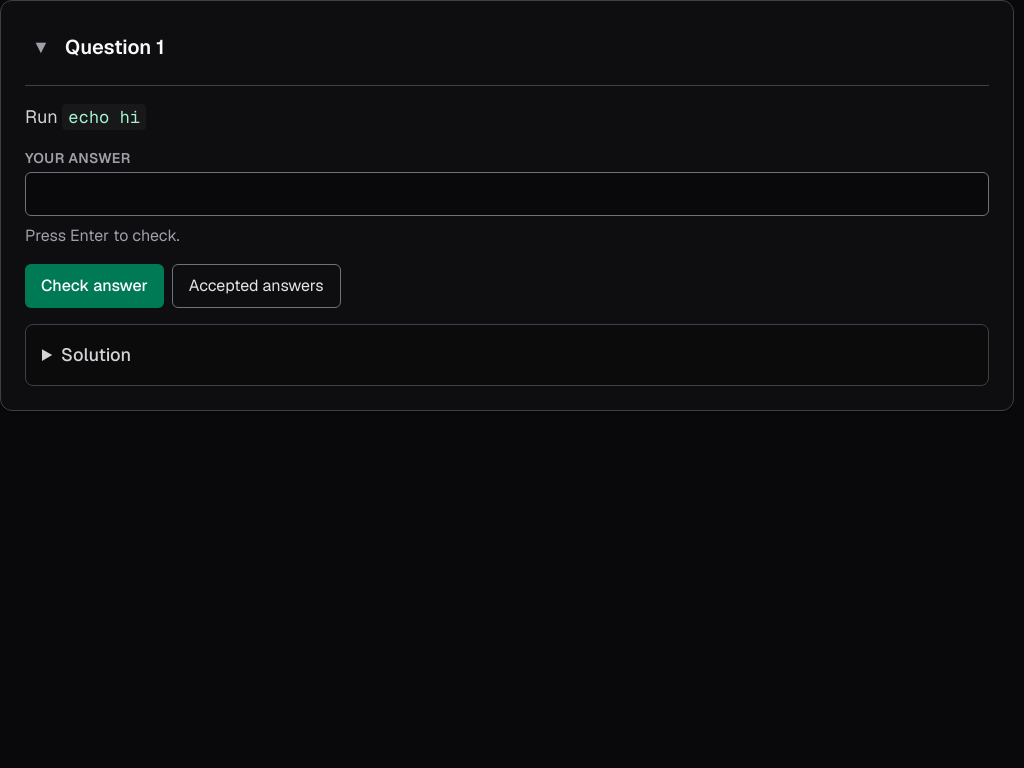
Test: QuestionBlock › closes the accepted-answers modal on Escape
The image size is (1024, 768).
Click the button "Accepted answers" at (256, 286), box x1=172 y1=264 x2=341 y2=308
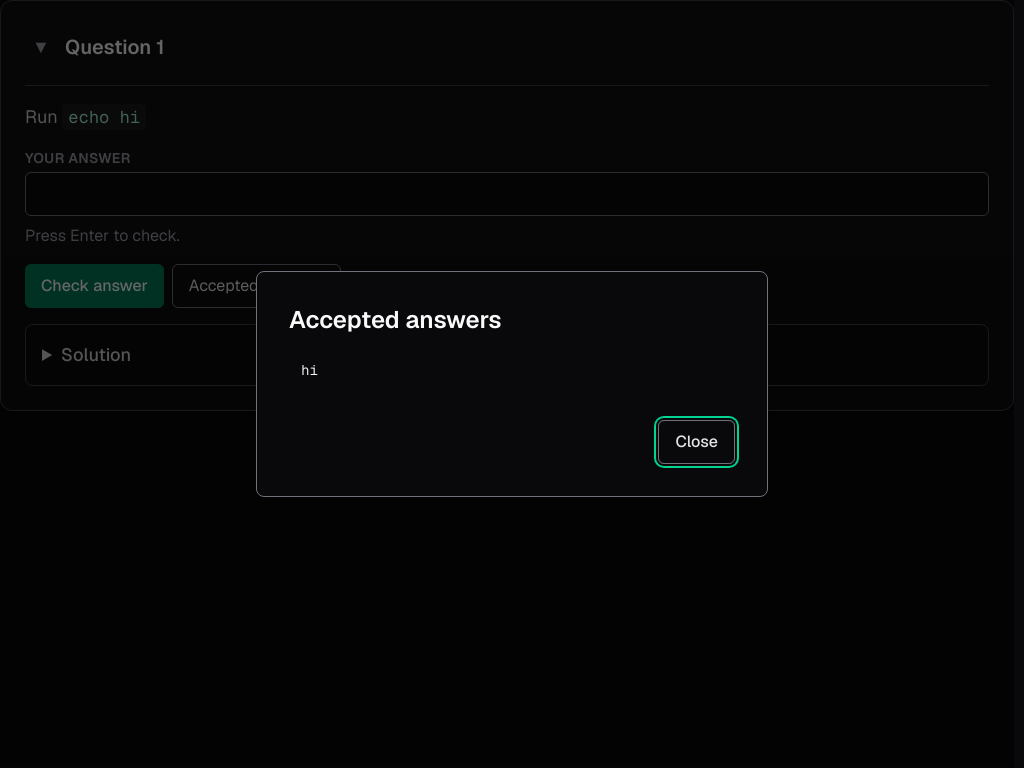
expect the dialog is shown: met, box x1=256 y1=271 x2=768 y2=497
Press Escape
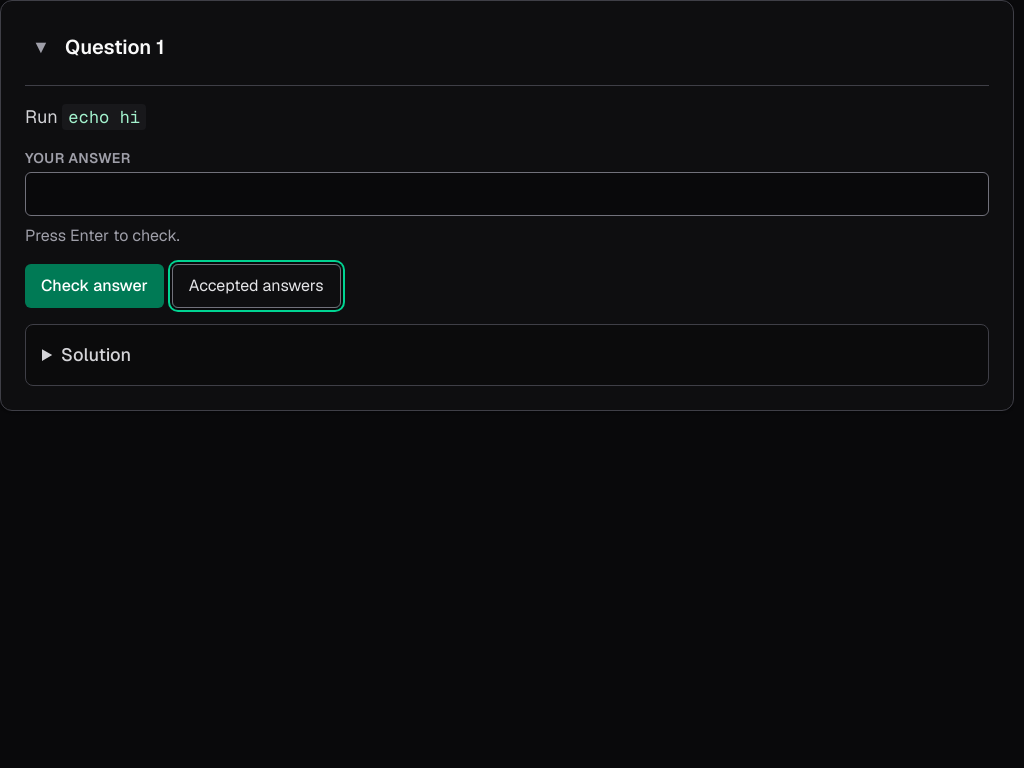
expect the dialog is gone: met
